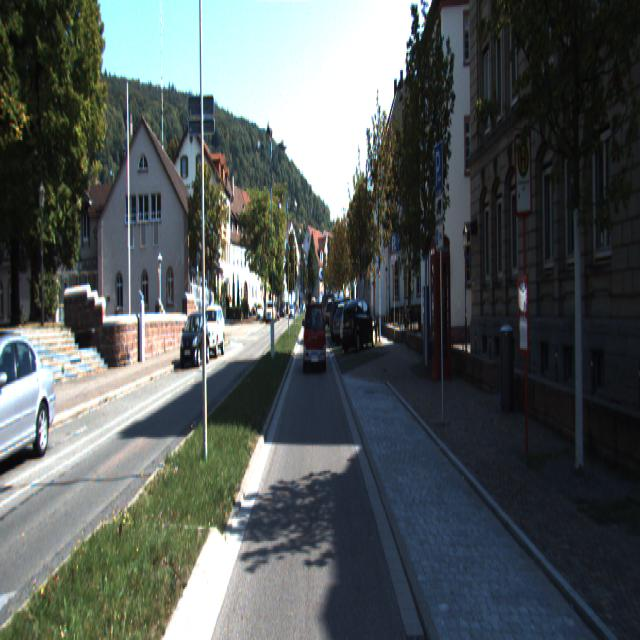Car: (0, 332, 59, 472), (341, 297, 378, 352), (340, 300, 376, 350), (180, 311, 212, 365), (304, 299, 327, 370), (332, 301, 368, 344), (198, 304, 226, 358)
